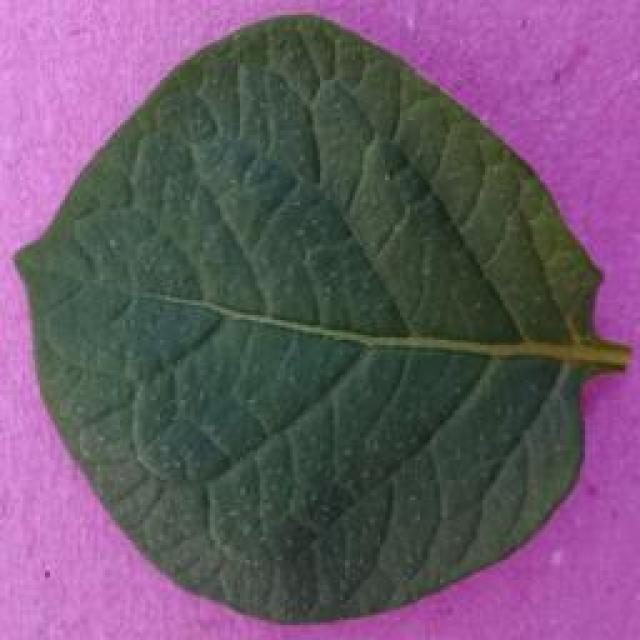Potato_Healthy: (10, 13, 618, 620)
